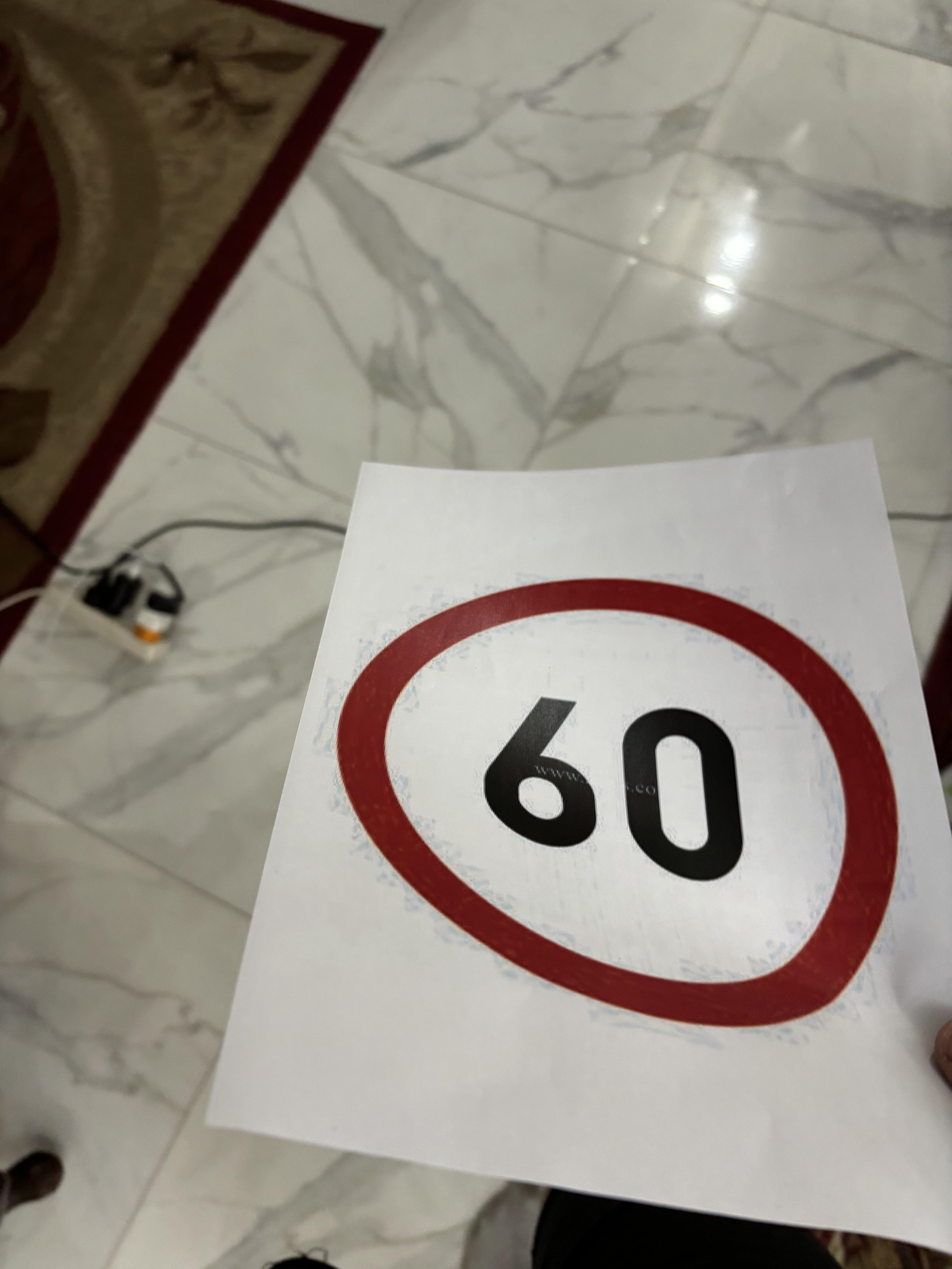60-Speed: (334, 560, 911, 1032)
